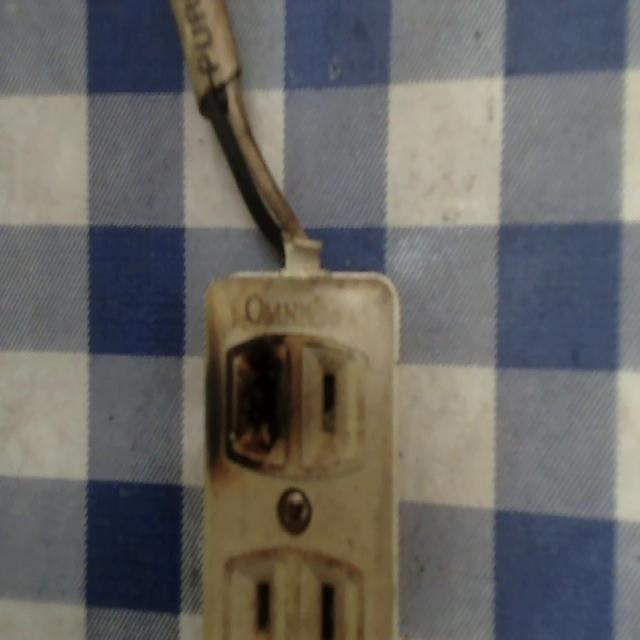-: (217, 313, 298, 476)
